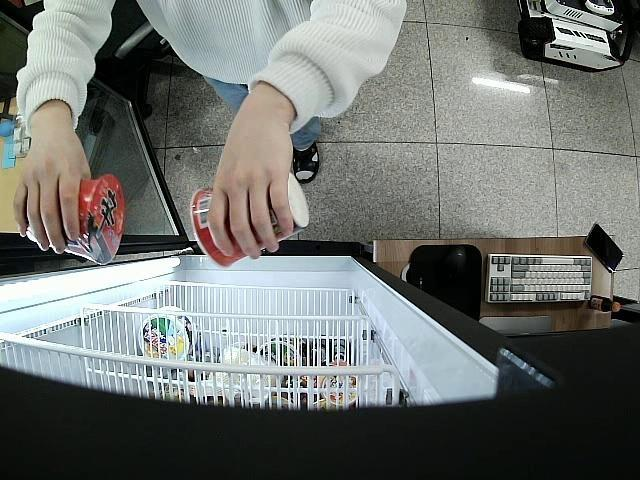02_shinRamen_S: (192, 169, 312, 270), (23, 172, 126, 264)
